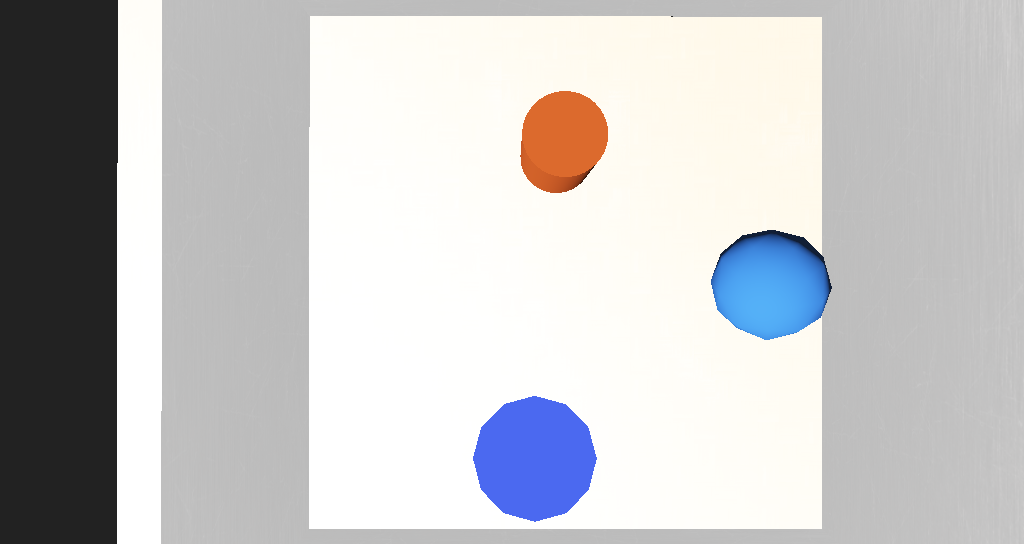cone: (482, 196, 529, 234)
cylinder: (455, 313, 515, 365)
sphere: (589, 248, 650, 296)
